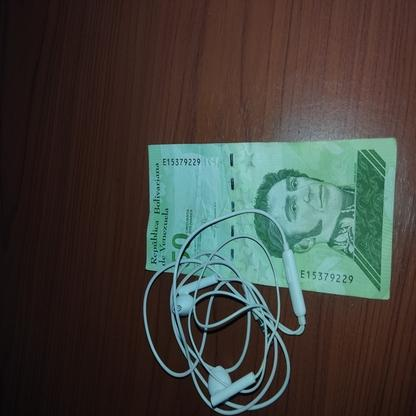vef_front: (144, 137, 396, 300)
